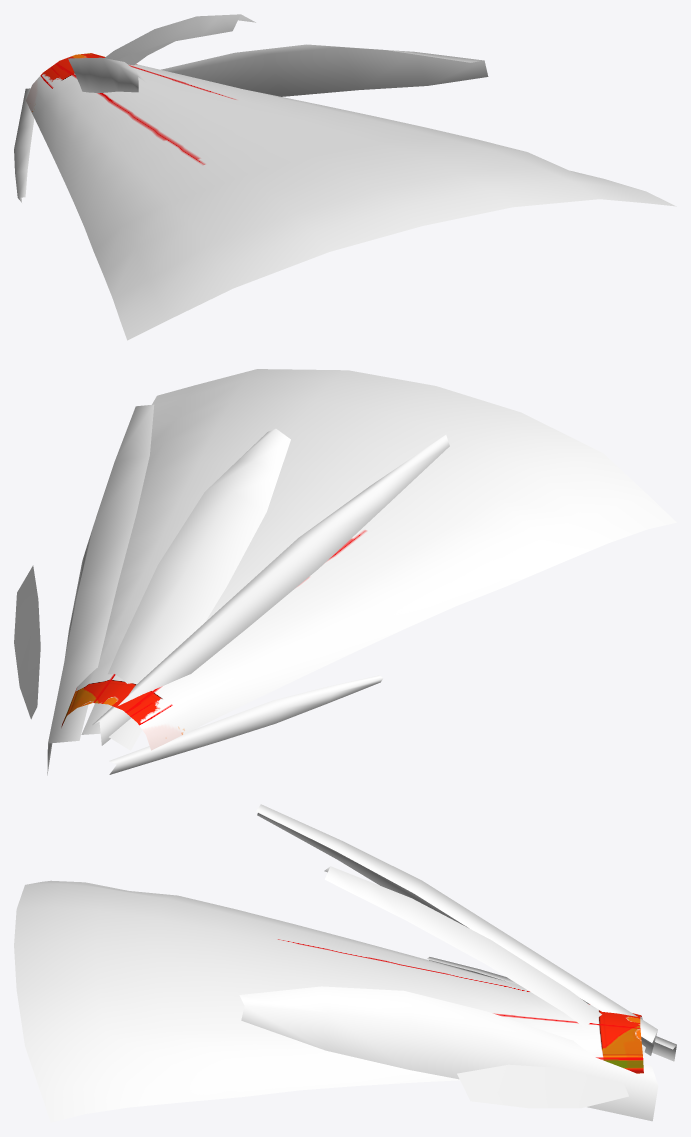
File: VFX_PlayerSpecialAttack.fbx
The picture shows the model from 3 angles, top to bottom: view 1: azimuth 30°, elevation 25°; view 2: azimuth 150°, elevation 25°; view 3: azimuth 270°, elevation 25°; orthographic projection. The views are drawn at different scales.
Visible parts, largest first — view 1: vfx_attack2; view 2: vfx_attack2; view 3: vfx_attack2.
Boxes of the visible parts, box(x1,y1,x2,y2) form: vfx_attack2: box(14, 14, 676, 340); vfx_attack2: box(14, 369, 676, 775); vfx_attack2: box(14, 804, 676, 1122).
Size of the model in its own units: 800 by 350 by 926.
